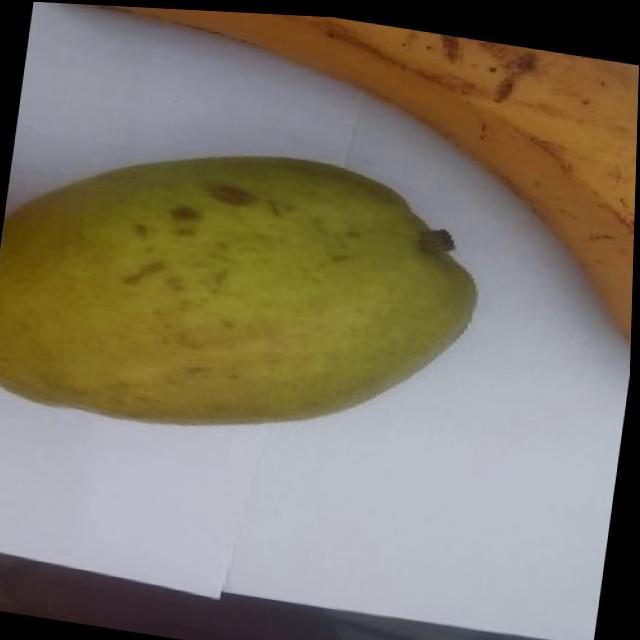Banana: (0, 0, 640, 341)
